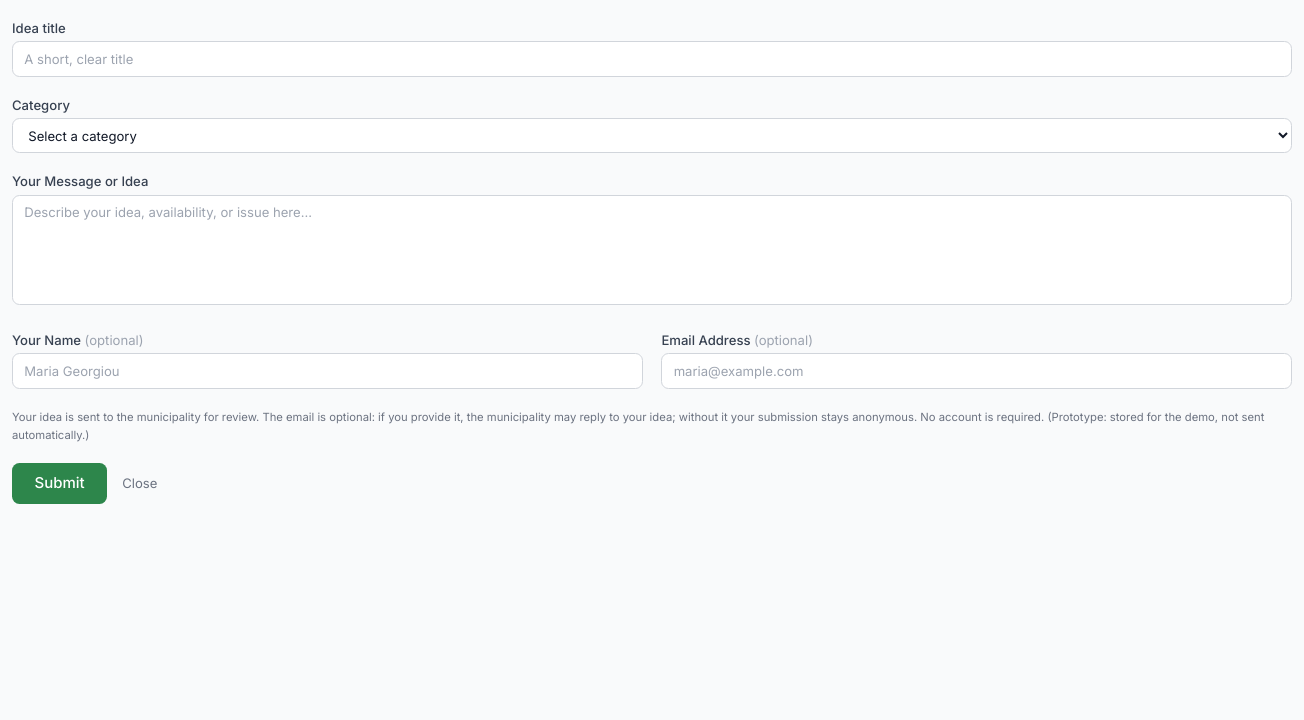
IdeaSubmitForm optional email validation › blocks submission and flags an invalid email
Type "More bike lanes" into the field with id "idea-title" at (652, 59), box [12,41,1292,77]
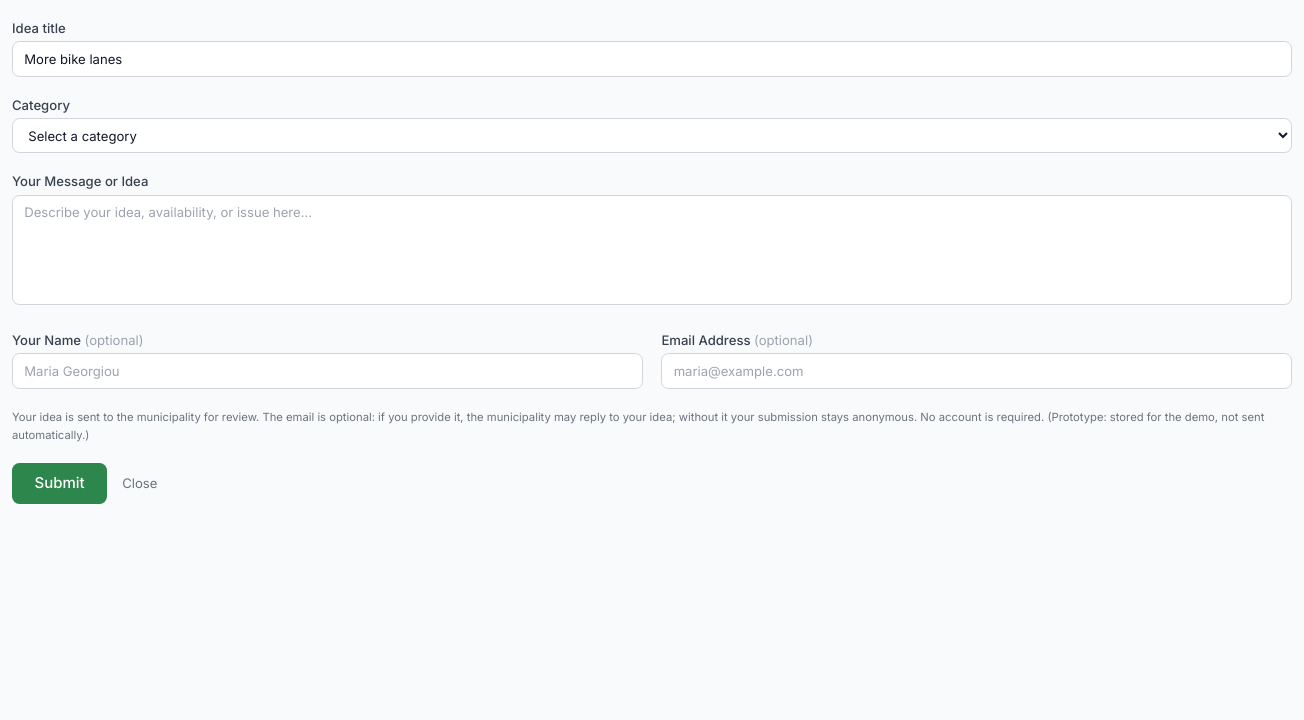
Select "Mobility" in the dropdown with id "idea-category" at (652, 136), box [12,118,1292,153]
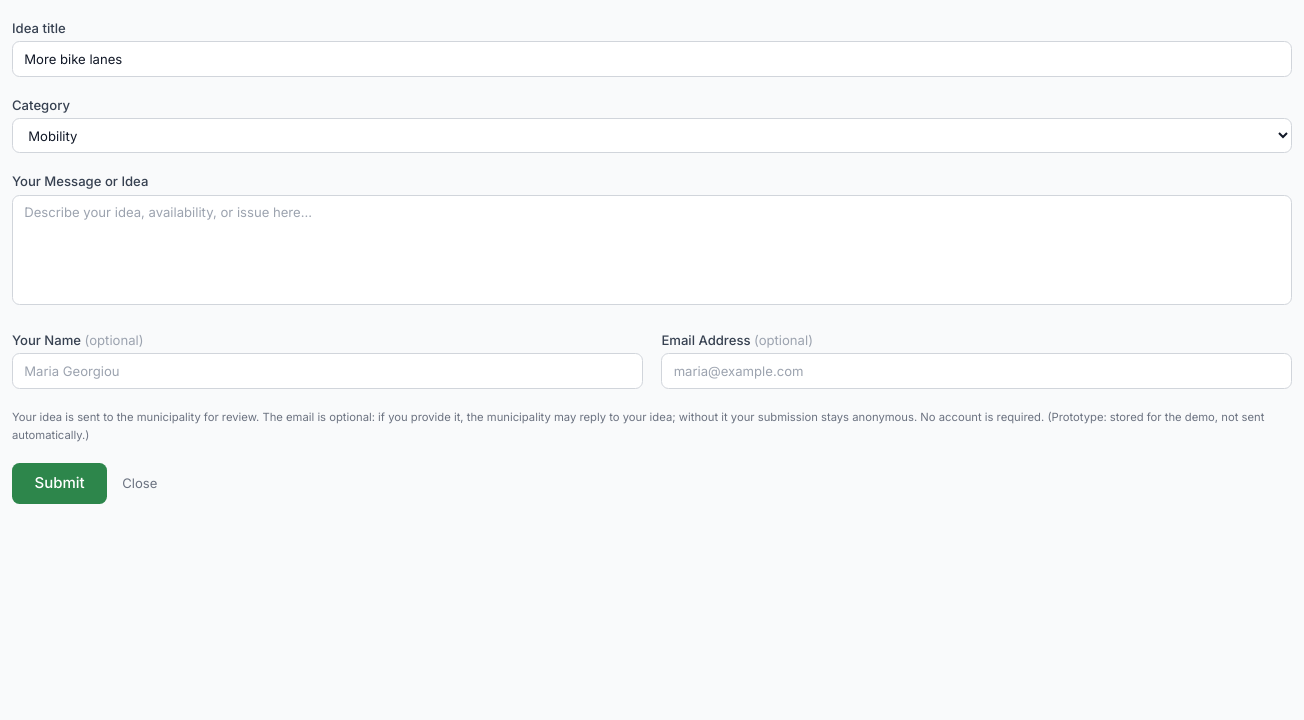
Type "A safe cycling route along the coast." into the text box with id "idea-message" at (652, 250), box [12,194,1292,305]
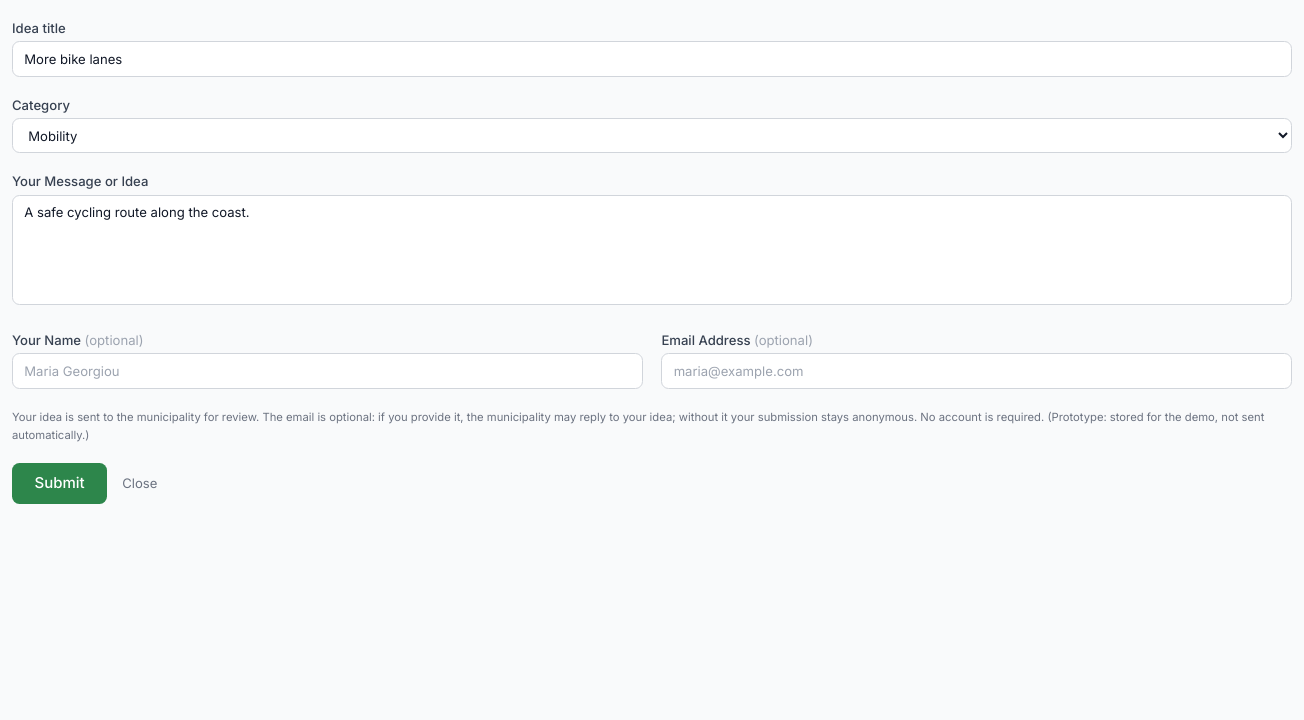
Type "not-an-email" into the field with id "idea-email" at (977, 371), box [661,353,1292,389]
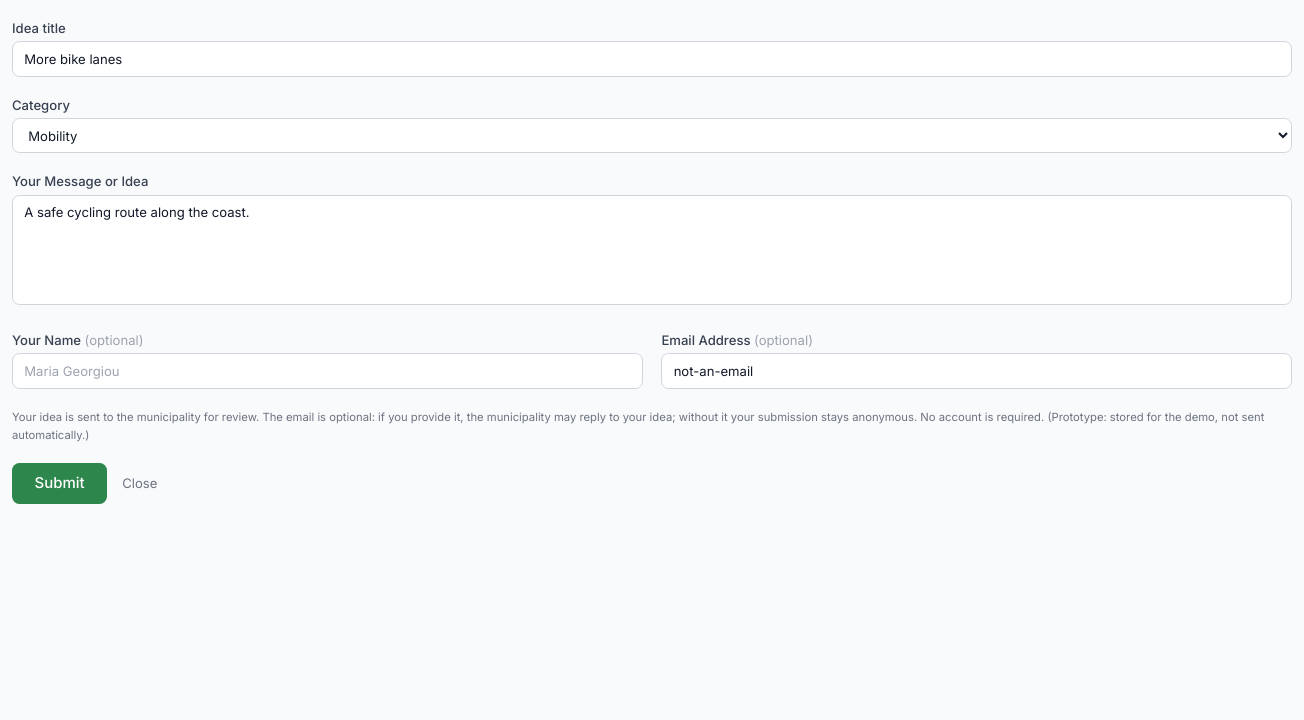
Click the submit button at (60, 483), box [12,463,107,504]
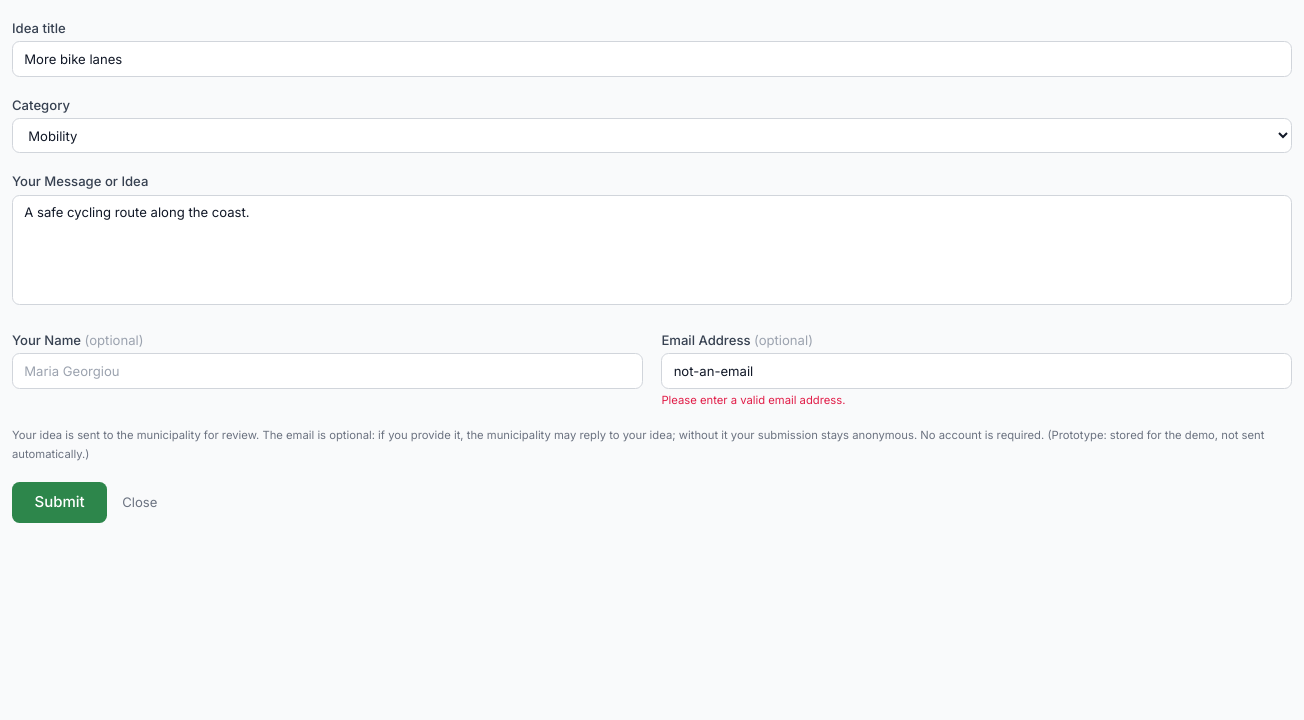
Expected: the message "Please enter a valid email address." is shown, [661,392,845,406]
